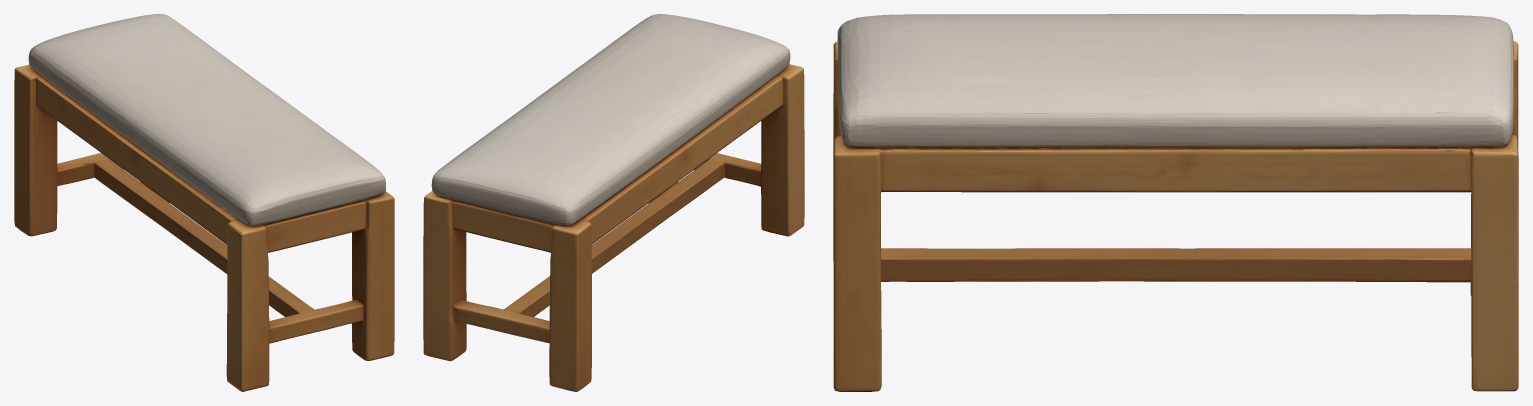
Rendered from bench.glb.
3 views of the same model, side by side, from view 1: azimuth 30°, elevation 25°; view 2: azimuth 150°, elevation 25°; view 3: azimuth 270°, elevation 25° (orthographic). The views are drawn at different scales.
Visible parts, largest first — view 1: geometry_0; view 2: geometry_0; view 3: geometry_0.
Boxes of the visible parts, x1,y1,x2,y2 form: geometry_0: (14,14,394,391); geometry_0: (423,14,804,391); geometry_0: (833,14,1518,391).
Size of the model in its own units: 0.3836 by 0.461 by 0.98.
1 material, 1 textured.
